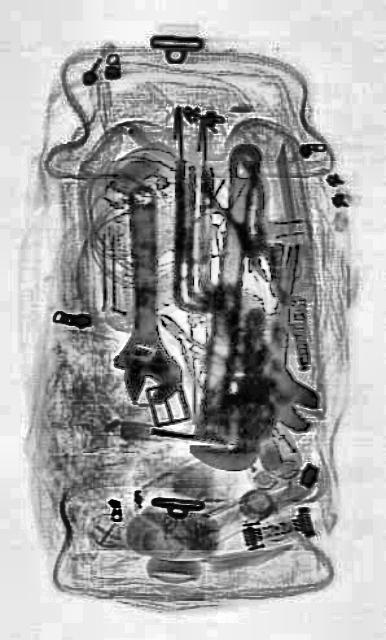Pliers: (198, 135, 292, 299)
Wrench: (108, 180, 182, 404)
